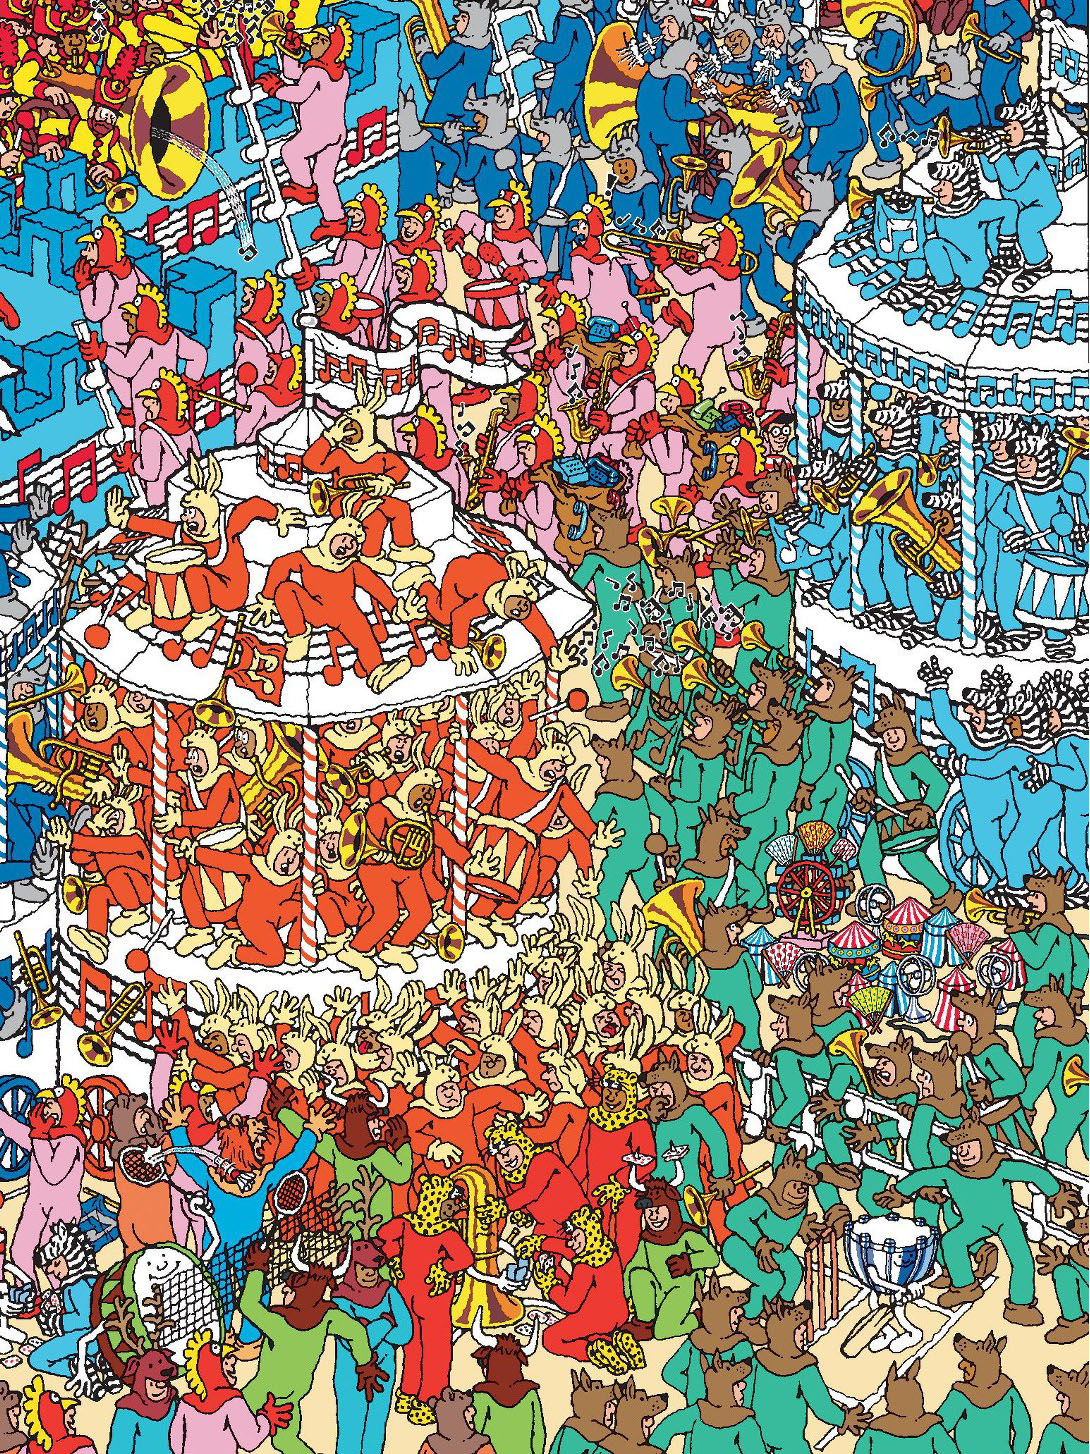waldo: (755, 403, 796, 455)
